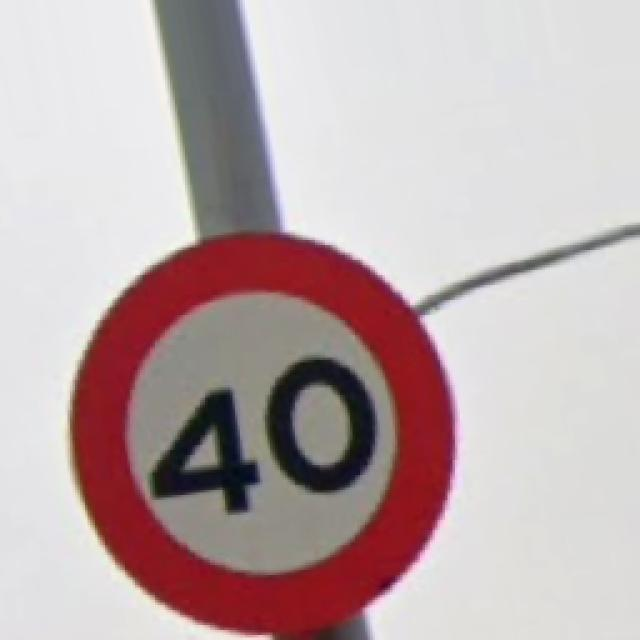Speed Limit -40-: (72, 235, 452, 628)
